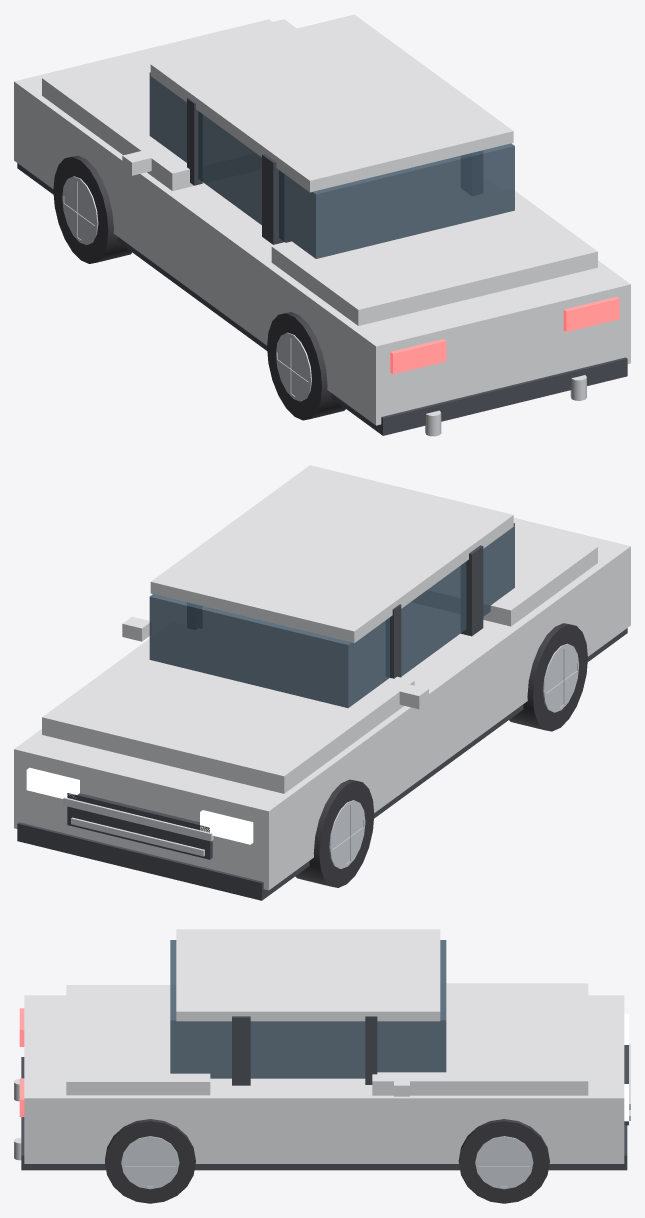
The model's file is cobalt.glb.
3 views of the same model, one above another, from view 1: azimuth 30°, elevation 25°; view 2: azimuth 150°, elevation 25°; view 3: azimuth 270°, elevation 25° (orthographic). The views are drawn at different scales.
Parts seen in each view (by area): view 1: Cobalt_Body, wheel_rl, wheel_fl; view 2: Cobalt_Body, wheel_fl, wheel_rl; view 3: Cobalt_Body, wheel_fr, wheel_rr.
Boxes of the visible parts, x1,y1,x2,y2 form: Cobalt_Body: [14, 14, 630, 436]; wheel_rl: [267, 312, 345, 420]; wheel_fl: [53, 155, 131, 263]; Cobalt_Body: [14, 465, 630, 900]; wheel_fl: [295, 779, 374, 887]; wheel_rl: [509, 623, 587, 731]; Cobalt_Body: [14, 929, 630, 1170]; wheel_fr: [458, 1119, 549, 1203]; wheel_rr: [105, 1119, 195, 1203].
Bounding box in the file's own units: 2.12 × 1.48 × 4.61.
